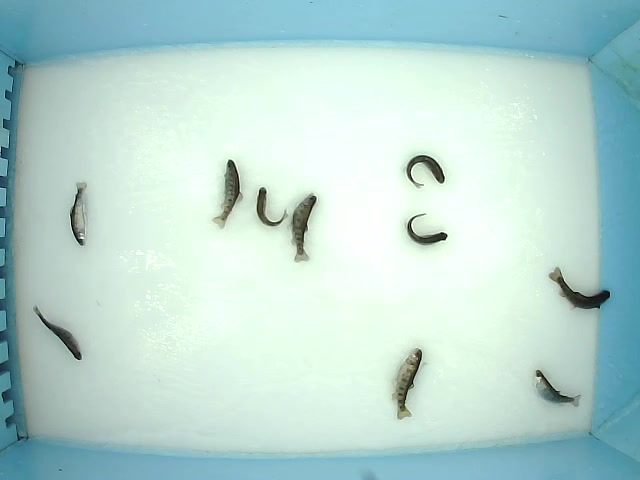fish: (31, 303, 84, 361), (547, 265, 611, 312), (390, 346, 423, 421), (211, 158, 244, 230), (290, 190, 318, 264), (533, 369, 583, 409), (406, 154, 446, 190), (406, 212, 448, 246), (256, 186, 289, 229), (69, 180, 89, 248)
